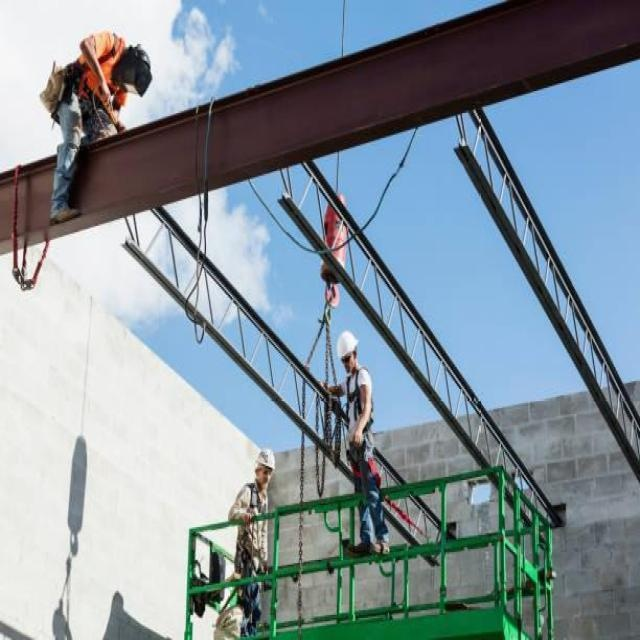Arnes_seguridad: (63, 32, 124, 112), (343, 370, 376, 470), (236, 482, 268, 580)
